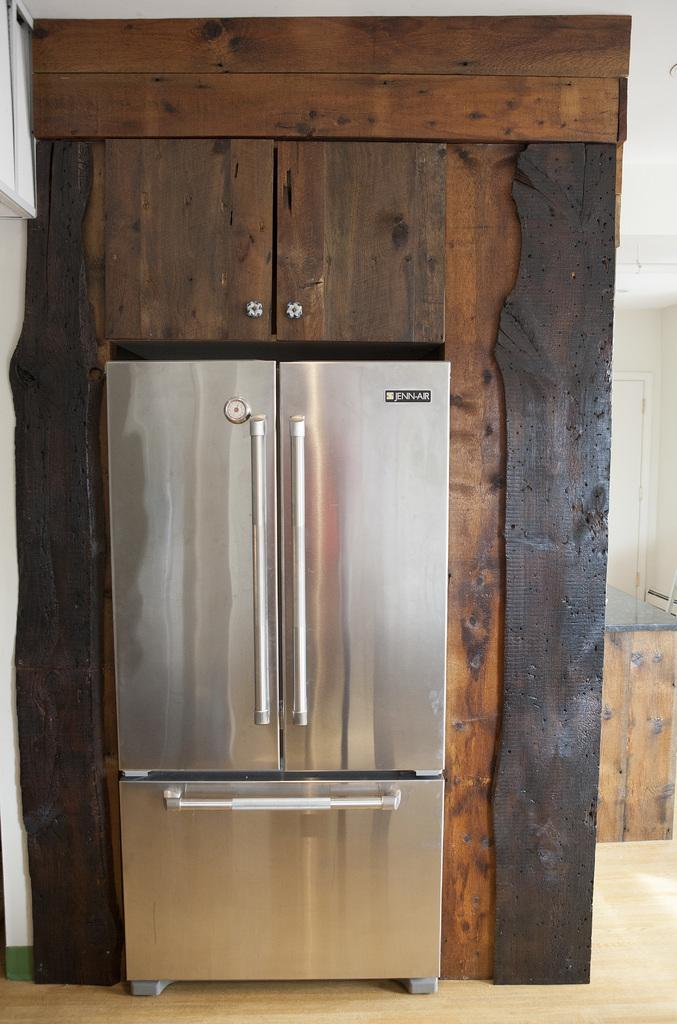handle: (168, 776, 406, 830), (244, 414, 276, 708), (284, 414, 312, 727)
